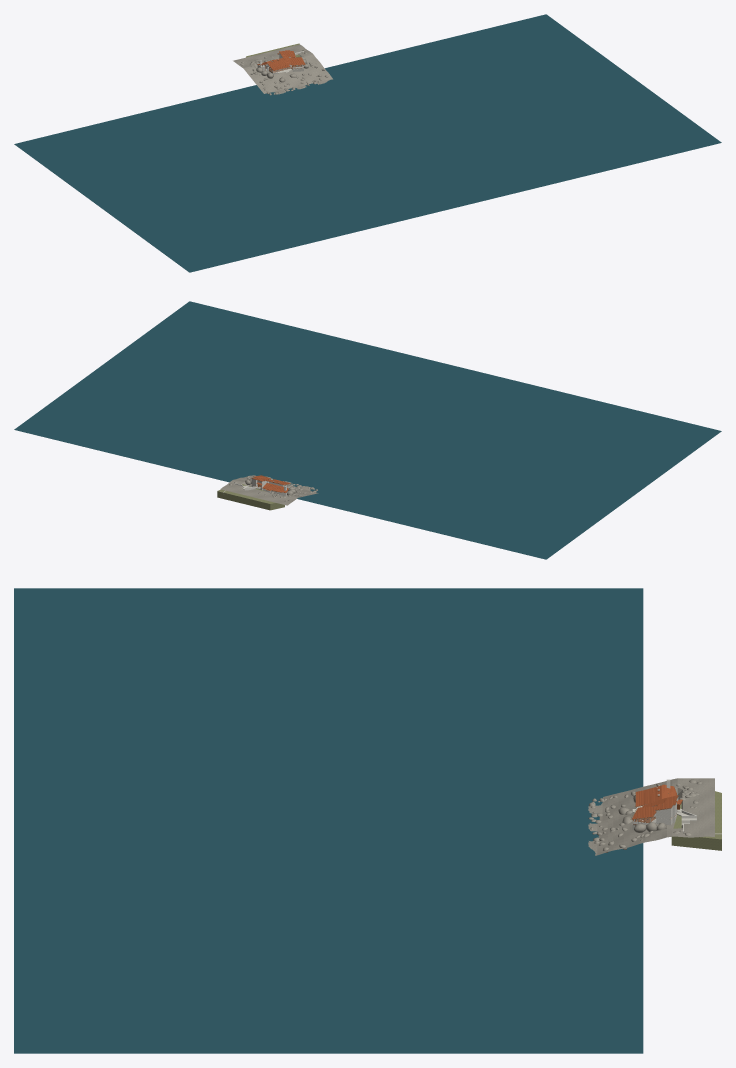
3 views of the same model, one above another, from view 1: azimuth 30°, elevation 25°; view 2: azimuth 150°, elevation 25°; view 3: azimuth 270°, elevation 25° (orthographic). The views are drawn at different scales.
Visible parts, largest first — view 1: 16_Complete_Architecture; view 2: 16_Complete_Architecture; view 3: 16_Complete_Architecture.
Part boxes in pixels (<box>): 16_Complete_Architecture: <box>14,14,721,272</box>; 16_Complete_Architecture: <box>14,301,721,559</box>; 16_Complete_Architecture: <box>14,588,721,1053</box>.
Bounding box in the file's own units: 350 × 12.88 × 225.
16 materials, 7 textured.
